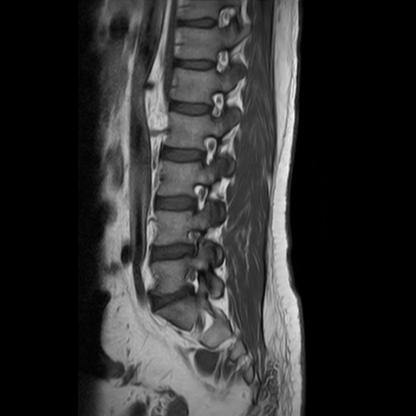Disc Bulgerotation: (145, 237, 207, 268), (143, 280, 202, 311)
